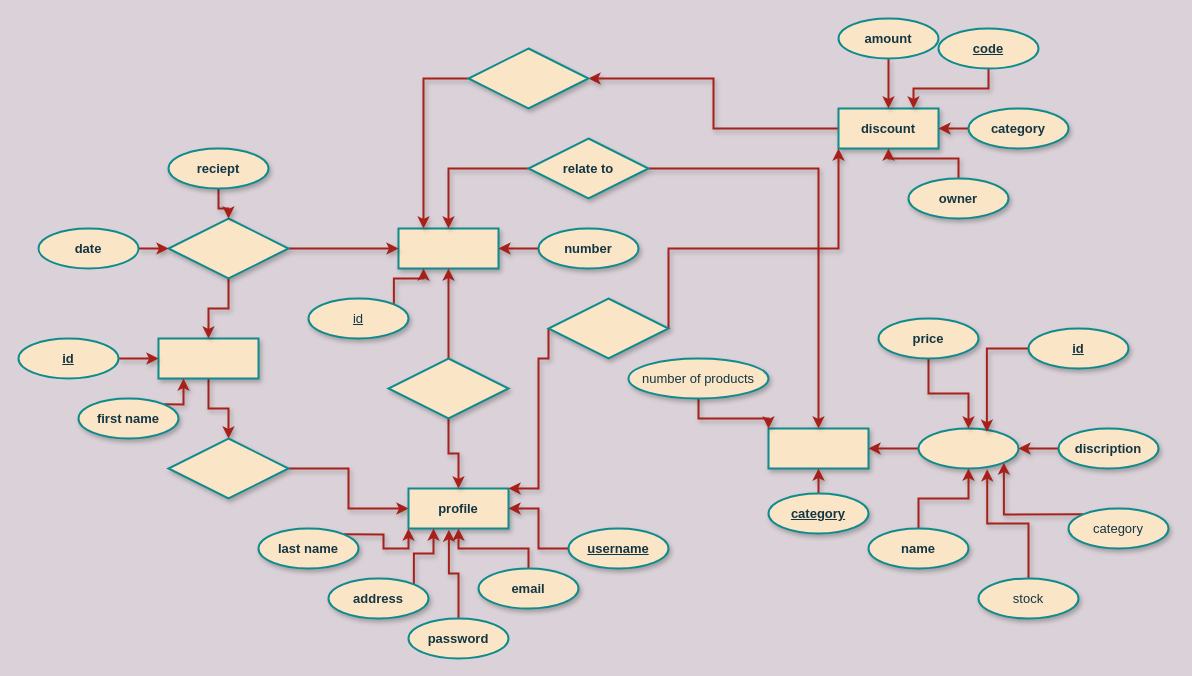
The diagram is 1192 pixels wide and 676 high, and some of its shapes have lost their labels. The shapes that lost their labels are listed below. From the top down, each one's centre as x and y in pixels, then its label:
point 529,79: deduct
point 229,249: pays
point 449,249: orders
point 609,329: has
point 209,359: user
point 449,389: takes
point 229,469: create
point 819,449: store
point 969,449: products
